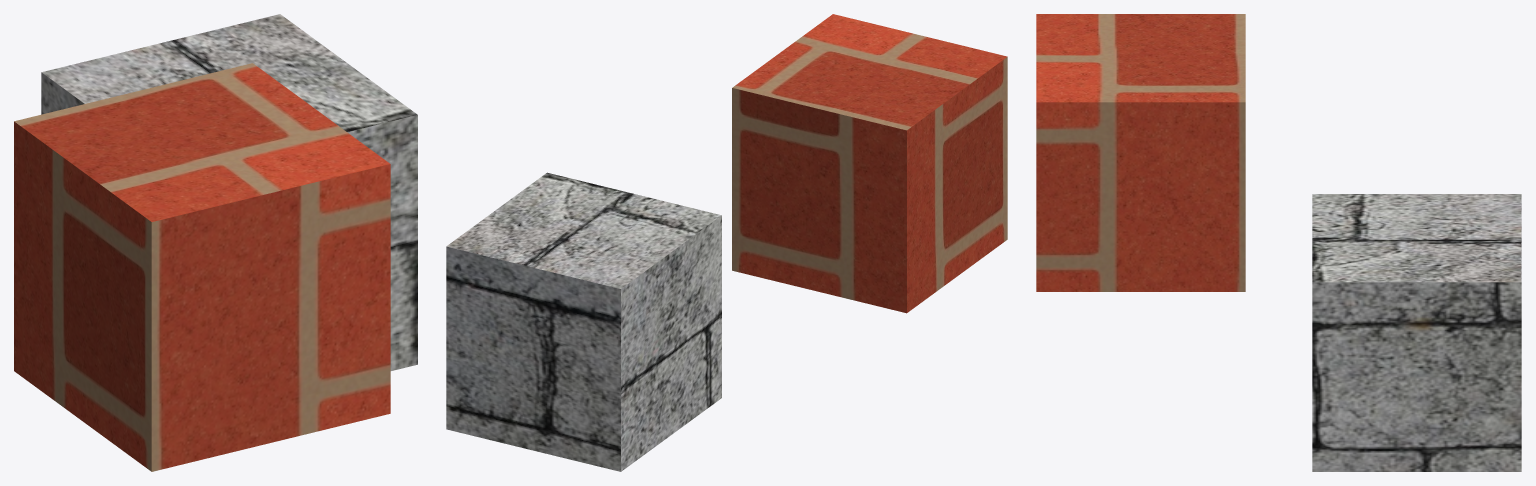
3 renders of one model, left to right at view 1: azimuth 30°, elevation 25°; view 2: azimuth 150°, elevation 25°; view 3: azimuth 270°, elevation 25°, orthographic. The views are drawn at different scales.
Parts seen in each view (by area): view 1: Cube.001, Cube; view 2: Cube, Cube.001; view 3: Cube, Cube.001.
Boxes of the visible parts, left/top/right/bottom form: Cube.001: left=14, top=63, right=390, bottom=471; Cube: left=41, top=14, right=417, bottom=370; Cube: left=446, top=172, right=721, bottom=471; Cube.001: left=732, top=14, right=1007, bottom=313; Cube: left=1312, top=194, right=1521, bottom=471; Cube.001: left=1036, top=14, right=1245, bottom=291.
Bounding box in the file's own units: 3.75 × 3.08 × 4.63.
Materials: 2 (2 with a texture image).
